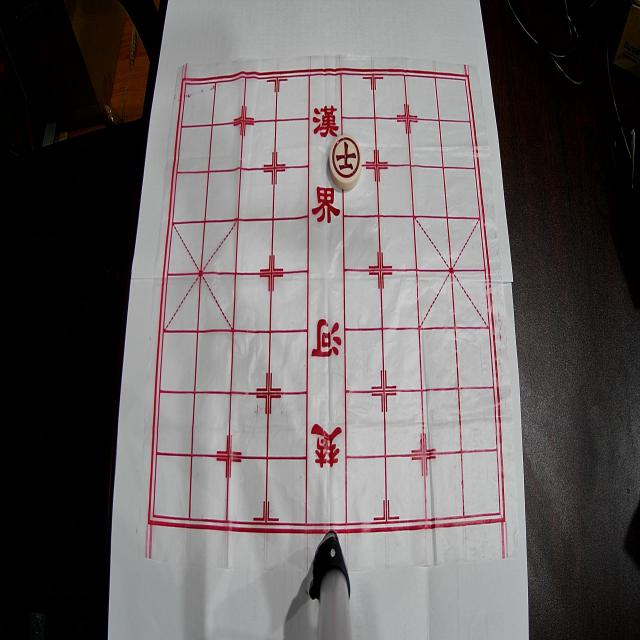red-guard: (329, 134, 362, 190)
